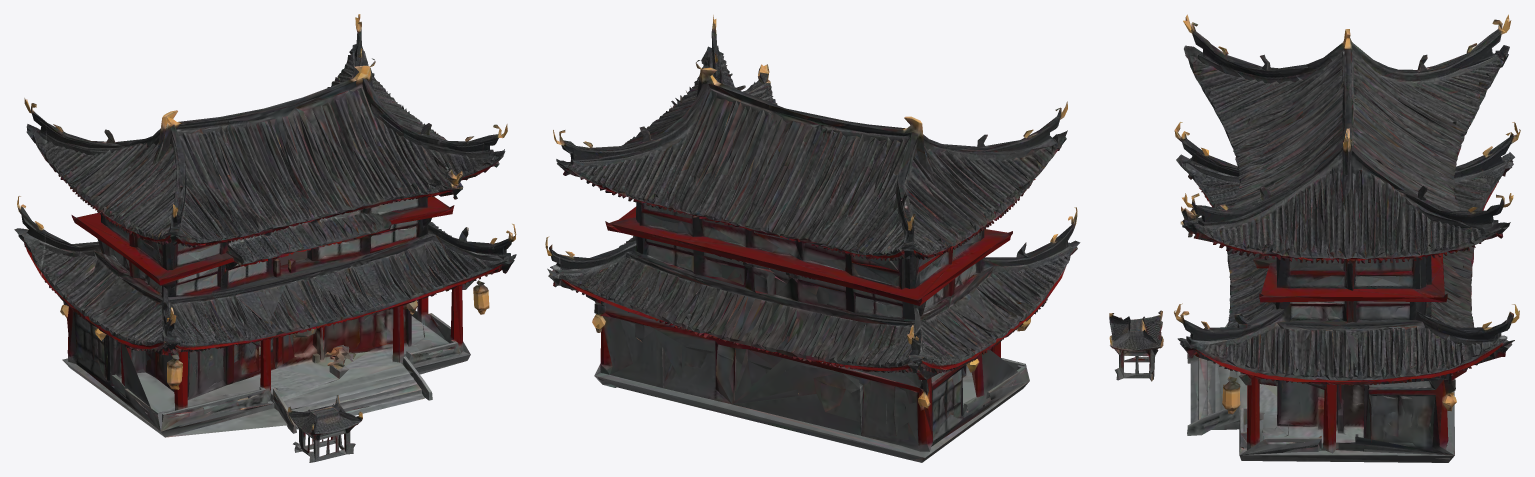
Rendered from hall_main.glb.
3 views of the same model, side by side, from view 1: azimuth 30°, elevation 25°; view 2: azimuth 150°, elevation 25°; view 3: azimuth 270°, elevation 25° (orthographic). The views are drawn at different scales.
Bounding box in the file's own units: 1.9 × 1.47 × 1.74.
1 material, 1 textured.
